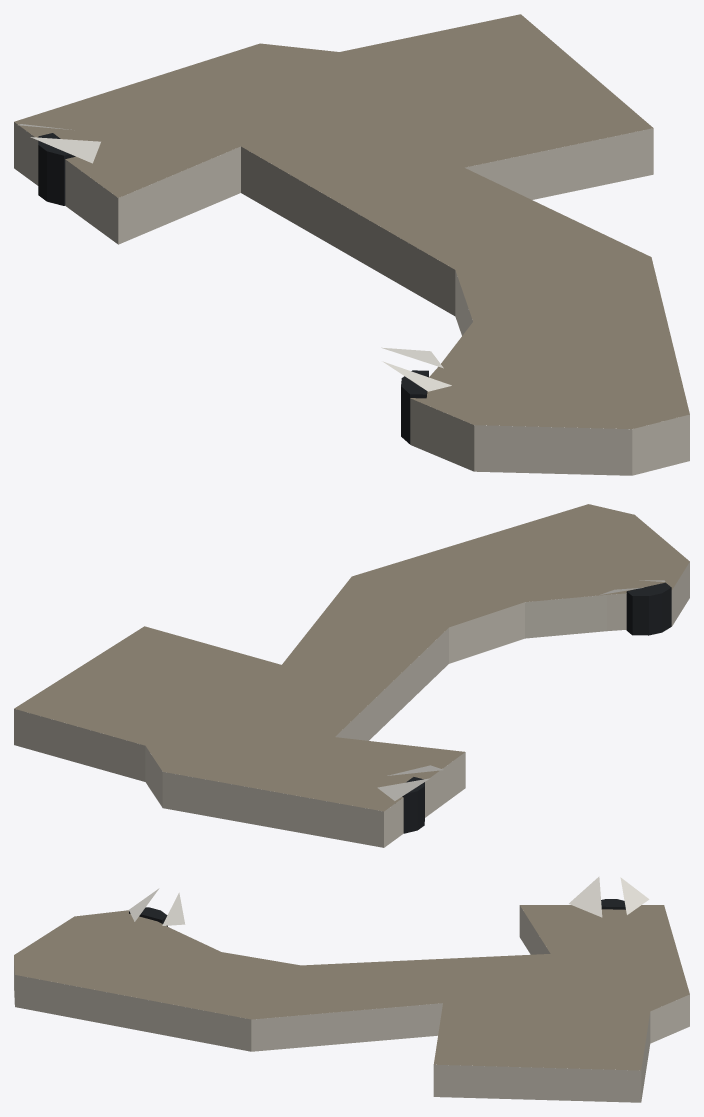
File: packages_mall_far.glb
3 renders of one model, top to bottom at view 1: azimuth 30°, elevation 25°; view 2: azimuth 150°, elevation 25°; view 3: azimuth 270°, elevation 25°, orthographic. The views are drawn at different scales.
Visible parts, largest first — view 1: m_roof_service, m_cladding, m_drum_band, m_blade_top; view 2: m_roof_service, m_cladding, m_drum_band, m_blade_top; view 3: m_roof_service, m_cladding, m_blade_top, m_drum_band.
Boxes of the visible parts, x1=… form: m_roof_service: x1=14, y1=14, x2=689, y2=429; m_cladding: x1=14, y1=122, x2=689, y2=475; m_drum_band: x1=38, y1=133, x2=428, y2=444; m_blade_top: x1=18, y1=124, x2=451, y2=391; m_roof_service: x1=14, y1=504, x2=689, y2=811; m_cladding: x1=14, y1=562, x2=689, y2=847; m_drum_band: x1=402, y1=582, x2=671, y2=833; m_blade_top: x1=377, y1=580, x2=665, y2=800; m_roof_service: x1=14, y1=905, x2=689, y2=1070; m_cladding: x1=14, y1=905, x2=689, y2=1102; m_blade_top: x1=129, y1=876, x2=649, y2=925; m_drum_band: x1=129, y1=899, x2=625, y2=926.
Bounding box in the file's own units: 217 × 29 × 351.
